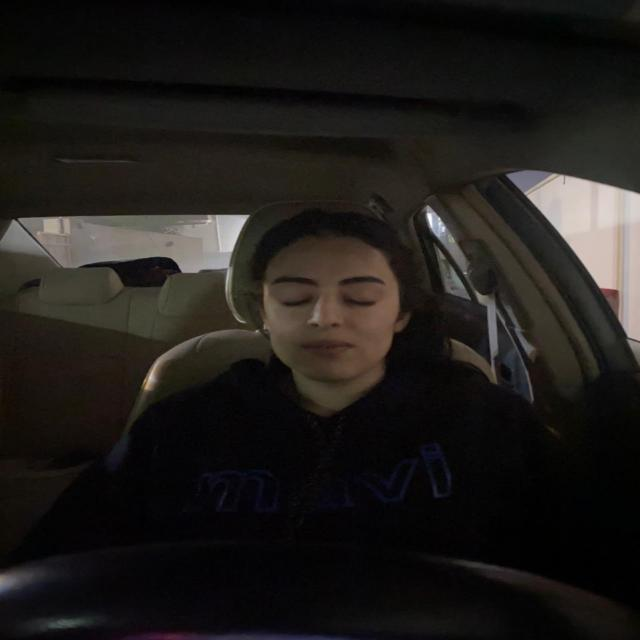drowsy: (251, 213, 412, 386)
